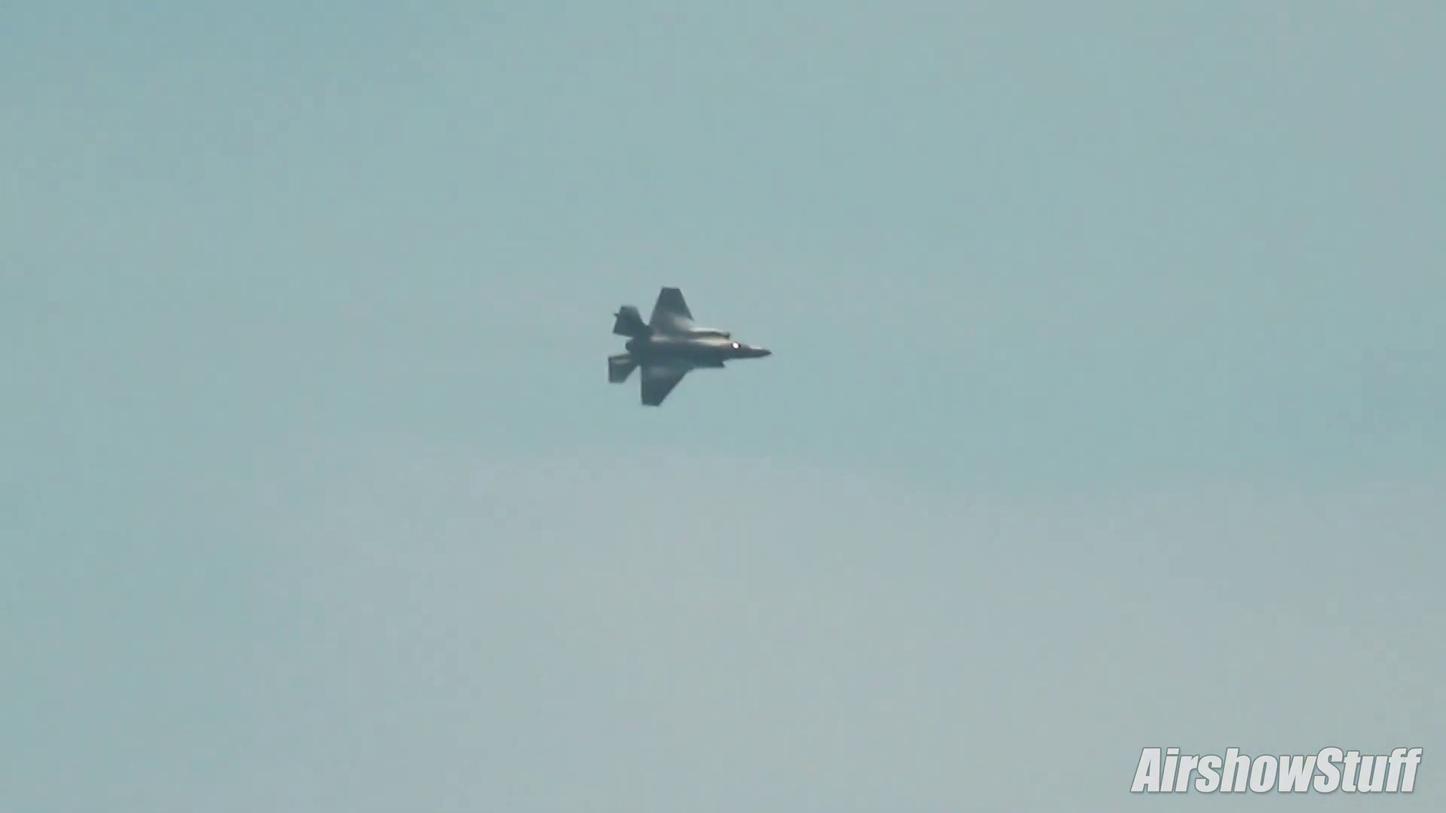F35: (601, 285, 775, 409)
